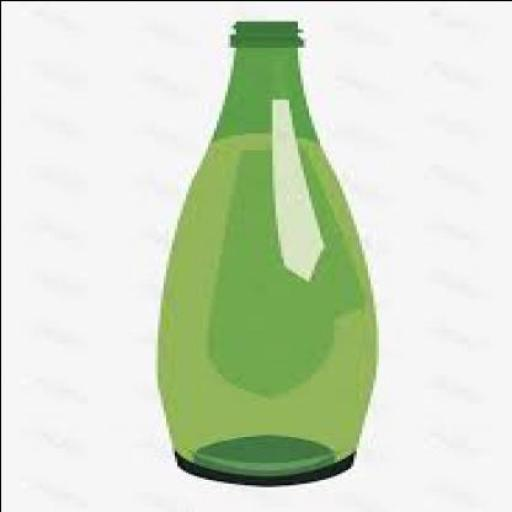glass: (159, 17, 381, 484)
